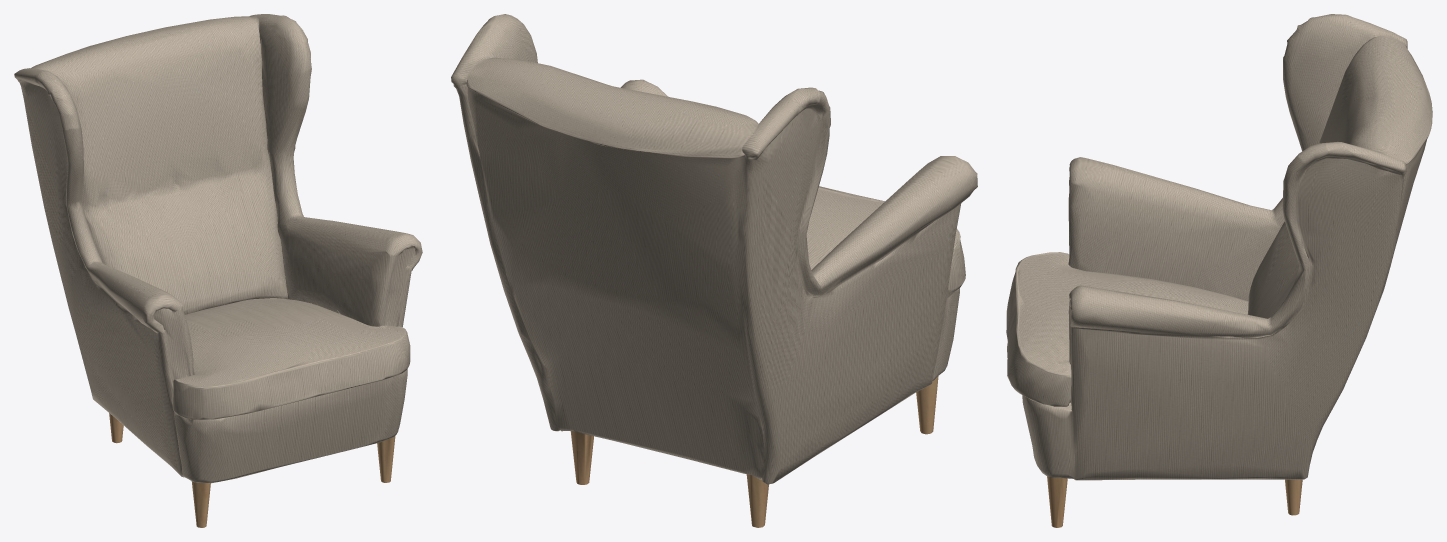
File: STRANDMON_60492815.glb
3 views of the same model, side by side, from view 1: azimuth 30°, elevation 25°; view 2: azimuth 150°, elevation 25°; view 3: azimuth 270°, elevation 25° (orthographic). The views are drawn at different scales.
Visible parts, largest first — view 1: ProcessedMeshNode; view 2: ProcessedMeshNode; view 3: ProcessedMeshNode.
Part boxes in pixels (x1,y1,x2,y2): ProcessedMeshNode: (14, 14, 422, 527); ProcessedMeshNode: (451, 14, 977, 527); ProcessedMeshNode: (1006, 14, 1432, 527).
Bounding box in the file's own units: 0.8079 × 1.01 × 0.98.
Materials: 1 (1 with a texture image).
